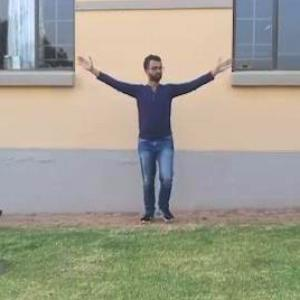takeoff: (85, 49, 241, 217)
